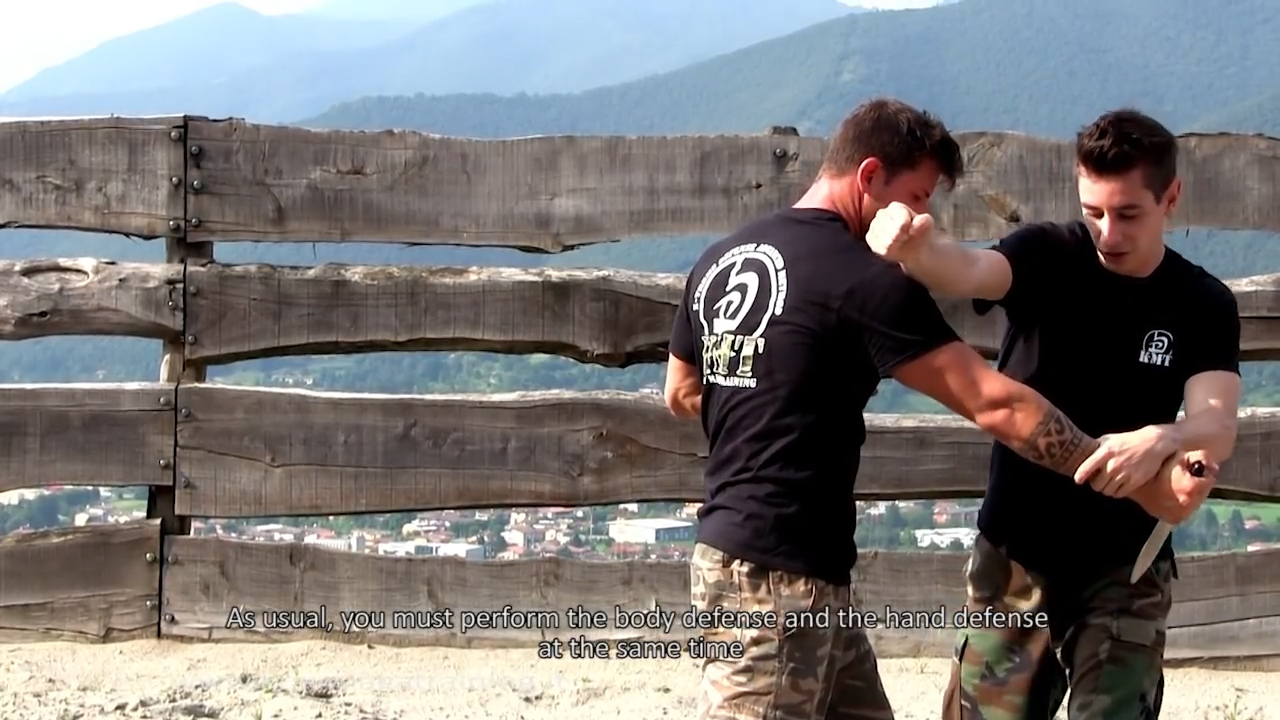knife: (1123, 446, 1221, 589)
